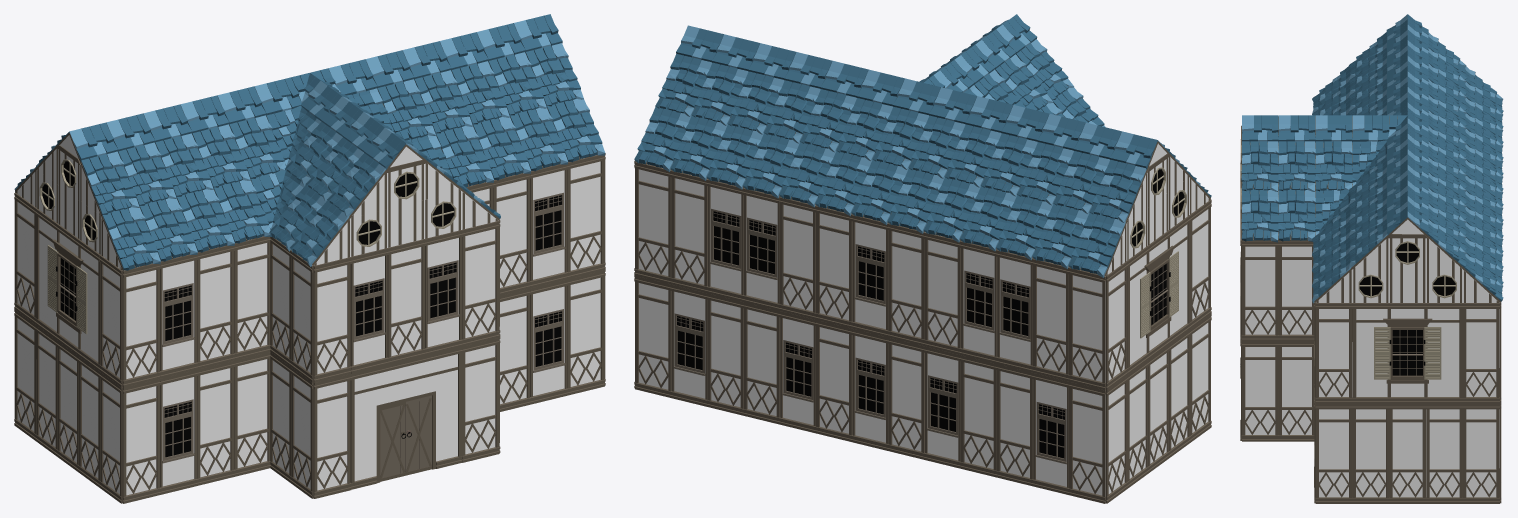
Rendered from House_16_full.glb.
3 views of the same model, side by side, from view 1: azimuth 30°, elevation 25°; view 2: azimuth 150°, elevation 25°; view 3: azimuth 270°, elevation 25° (orthographic). The views are drawn at different scales.
Visible parts, largest first — view 1: DOOR_03_2, WINDOW_07_3, WALL_01_14, WALL_01_15, WINDOW_04_6, WALL_01_13, WALL_01_2, WALL_01_8, WINDOW_04_11, WALL_01_40, WINDOW_04_12, WALL_01_41 (+77 smaller); view 2: WINDOW_07_3, WALL_01_50, WALL_01_25, WALL_01_53, WALL_01_30, WINDOW_04_9, WALL_01_28, WALL_01_54, WALL_01_31, WALL_01_56, WINDOW_04_16, WALL_01_55 (+73 smaller); view 3: WINDOW_07_4, WALL_01_43, WALL_01_45, WALL_01_46, WALL_01_44, WALL_01_33, WALL_01_34, WALL_01_42, WALL_01_47, WALL_01_48, WALL_01_35, WALL_01_32 (+86 smaller).
Boxes of the visible parts, x1=… form: DOOR_03_2: x1=350, y1=347, x2=462, y2=489; WINDOW_07_3: x1=35, y1=208, x2=100, y2=371; WALL_01_14: x1=313, y1=257, x2=351, y2=382; WALL_01_15: x1=387, y1=239, x2=425, y2=364; WINDOW_04_6: x1=350, y1=248, x2=388, y2=373; WALL_01_13: x1=122, y1=263, x2=160, y2=387; WALL_01_2: x1=313, y1=374, x2=351, y2=498; WALL_01_8: x1=122, y1=378, x2=160, y2=503; WINDOW_04_11: x1=530, y1=164, x2=567, y2=288; WALL_01_40: x1=567, y1=155, x2=604, y2=279; WINDOW_04_12: x1=530, y1=279, x2=567, y2=404; WALL_01_41: x1=567, y1=270, x2=604, y2=395; WINDOW_07_3: x1=1127, y1=215, x2=1190, y2=374; WALL_01_50: x1=743, y1=302, x2=780, y2=424; WALL_01_25: x1=996, y1=364, x2=1033, y2=486; WALL_01_53: x1=815, y1=205, x2=852, y2=328; WALL_01_30: x1=924, y1=232, x2=960, y2=354; WINDOW_04_9: x1=960, y1=241, x2=997, y2=363; WALL_01_28: x1=1069, y1=267, x2=1105, y2=390; WALL_01_54: x1=779, y1=197, x2=816, y2=319; WALL_01_31: x1=888, y1=223, x2=924, y2=345; WALL_01_56: x1=634, y1=161, x2=671, y2=284; WINDOW_04_16: x1=851, y1=214, x2=888, y2=337; WALL_01_55: x1=671, y1=170, x2=707, y2=292; WINDOW_07_4: x1=1352, y1=303, x2=1462, y2=403; WALL_01_43: x1=1315, y1=303, x2=1352, y2=403; WALL_01_45: x1=1352, y1=403, x2=1389, y2=503; WALL_01_46: x1=1389, y1=403, x2=1426, y2=503; WALL_01_44: x1=1315, y1=403, x2=1352, y2=503; WALL_01_33: x1=1242, y1=240, x2=1278, y2=341; WALL_01_34: x1=1242, y1=341, x2=1278, y2=441; WALL_01_42: x1=1463, y1=303, x2=1499, y2=403; WALL_01_47: x1=1426, y1=403, x2=1462, y2=503; WALL_01_48: x1=1463, y1=403, x2=1499, y2=503; WALL_01_35: x1=1278, y1=341, x2=1314, y2=441; WALL_01_32: x1=1278, y1=240, x2=1314, y2=341.
Bounding box in the file's own units: 13.17 × 8.59 × 7.14.
1 material, 1 textured.
